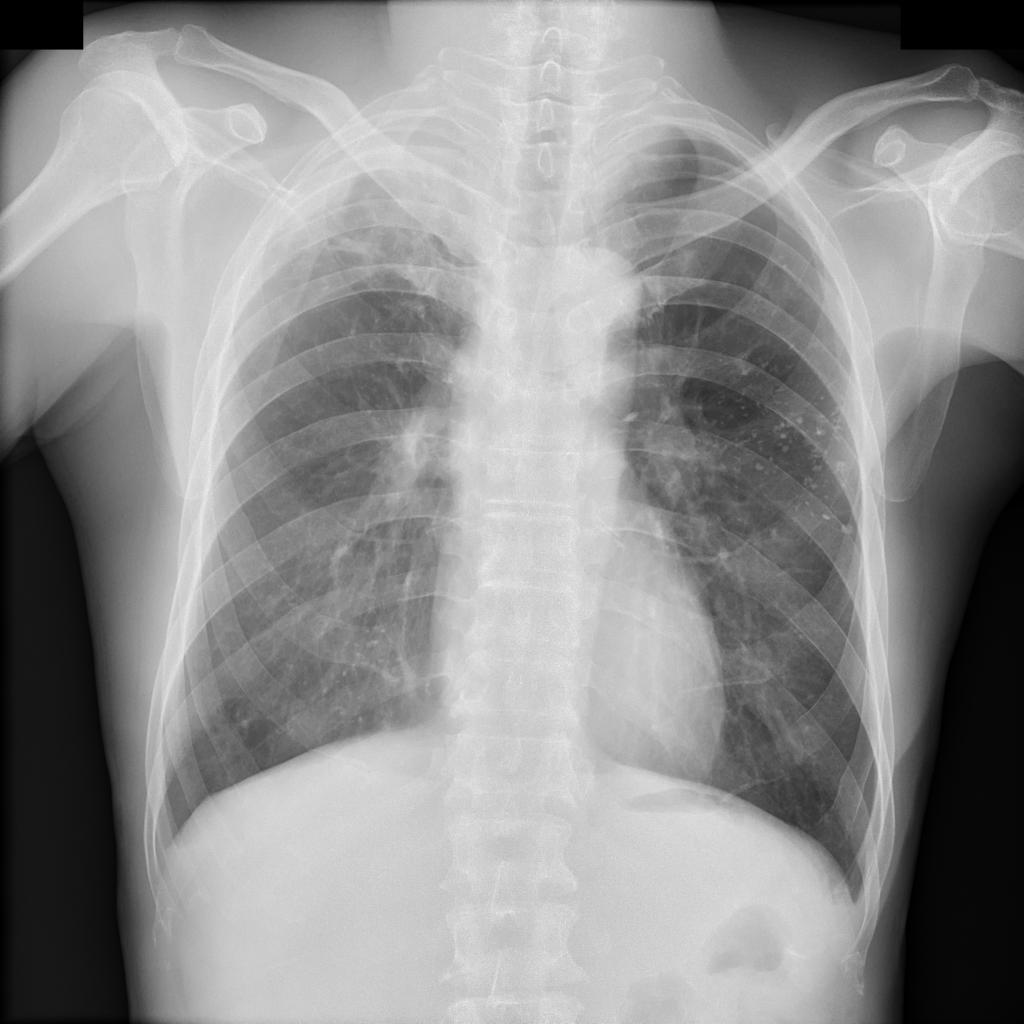Nodule: (715, 395, 857, 542), (308, 601, 428, 734)
